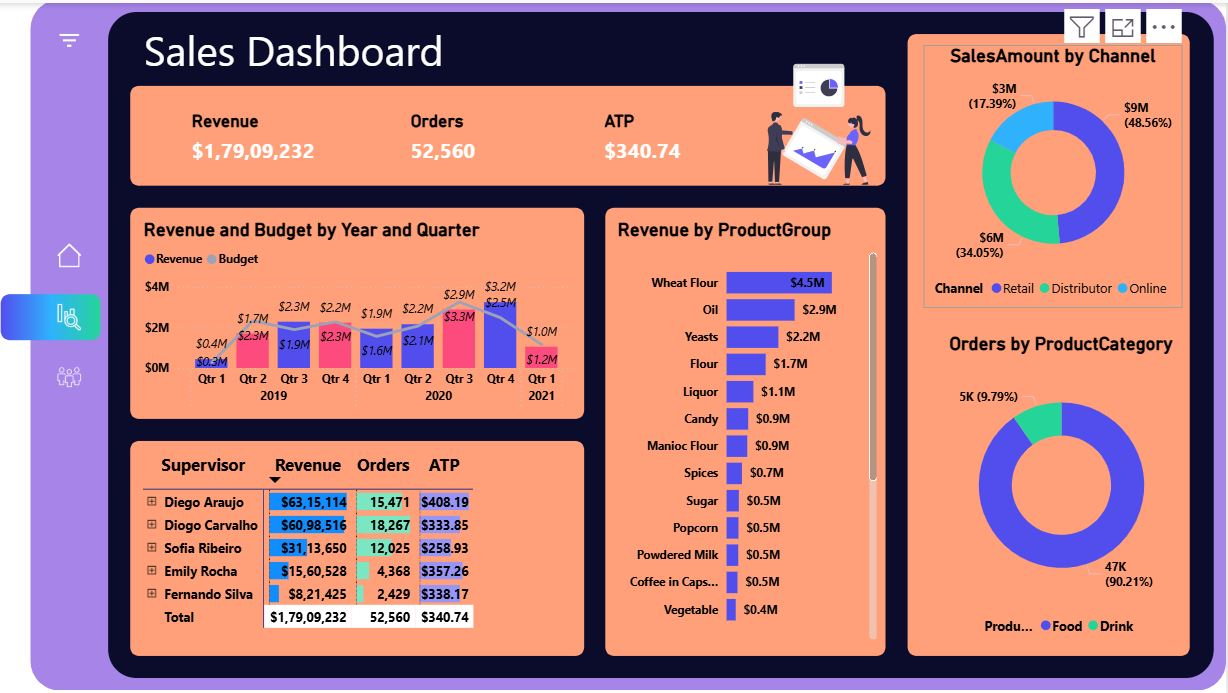

What the dashboard file says about the page in this screenshot:
{"tool":"powerbi","page":{"name":"Page 1","canvas":[1280,720],"ordinal":0},"visuals":[{"type":"multiRowCard","title":"Revenue","fields":{"Values":["Sales.Revenue"]},"box":[197.1,112.9,162.9,68.6],"z":0},{"type":"donutChart","fields":{"Category":["Sales.Channel"],"Y":["Sales.Revenue"]},"box":[964.3,44,269.8,272.7],"z":1000},{"type":"lineClusteredColumnComboChart","fields":{"Y":["Sales.Revenue"],"Category":["Date.Date.Variation.Date Hierarchy.Year","Date.Date.Variation.Date Hierarchy.Quarter","Date.Date.Variation.Date Hierarchy.Month","Date.Date.Variation.Date Hierarchy.Day"],"Y2":["KeyMeasures.budget"]},"box":[146.3,224.4,458.7,205.9],"z":2000},{"type":"multiRowCard","title":"Orders","fields":{"Values":["Sales.Orders"]},"box":[424.6,112.2,133.5,69.6],"z":3000},{"type":"pivotTable","fields":{"Values":["Sales.Revenue","Sales.Orders","Sales.ATP"],"Rows":["SalesPerson.Supervisor","SalesPerson.Salesperson"]},"box":[145.8,461.8,459.7,224.8],"z":4000},{"type":"multiRowCard","title":"ATP","fields":{"Values":["Sales.ATP"]},"box":[626.3,112.2,133.5,69.6],"z":5000},{"type":"textbox","box":[146.9,14.1,332.9,73.5],"z":6000},{"type":"barChart","fields":{"Y":["Sales.Revenue"],"Category":["Product.ProductGroup"]},"box":[640.5,224.4,279.8,443.1],"z":7000},{"type":"donutChart","fields":{"Category":["Product.ProductCategory"],"Y":["Sales.Orders"]},"box":[964.3,343.7,286.9,323.8],"z":8000}]}

Visuals, with their boxes on the page's 1280x720 design canvas (x1, y1, x2, y2). These are canvas units, not pixel positions in the 1228x693 screenshot, which may show the page scaled, cropped or inside an application window:
"Revenue" multiRowCard: box=[197, 113, 360, 182]
donutChart - Sales.Channel x Sales.Revenue: box=[964, 44, 1234, 317]
lineClusteredColumnComboChart - Sales.Revenue x Date.Date.Variation.Date Hierarchy.Year: box=[146, 224, 605, 430]
"Orders" multiRowCard: box=[425, 112, 558, 182]
pivotTable - Sales.Revenue x Sales.Orders: box=[146, 462, 606, 687]
"ATP" multiRowCard: box=[626, 112, 760, 182]
textbox: box=[147, 14, 480, 88]
barChart - Sales.Revenue x Product.ProductGroup: box=[640, 224, 920, 668]
donutChart - Product.ProductCategory x Sales.Orders: box=[964, 344, 1251, 668]
